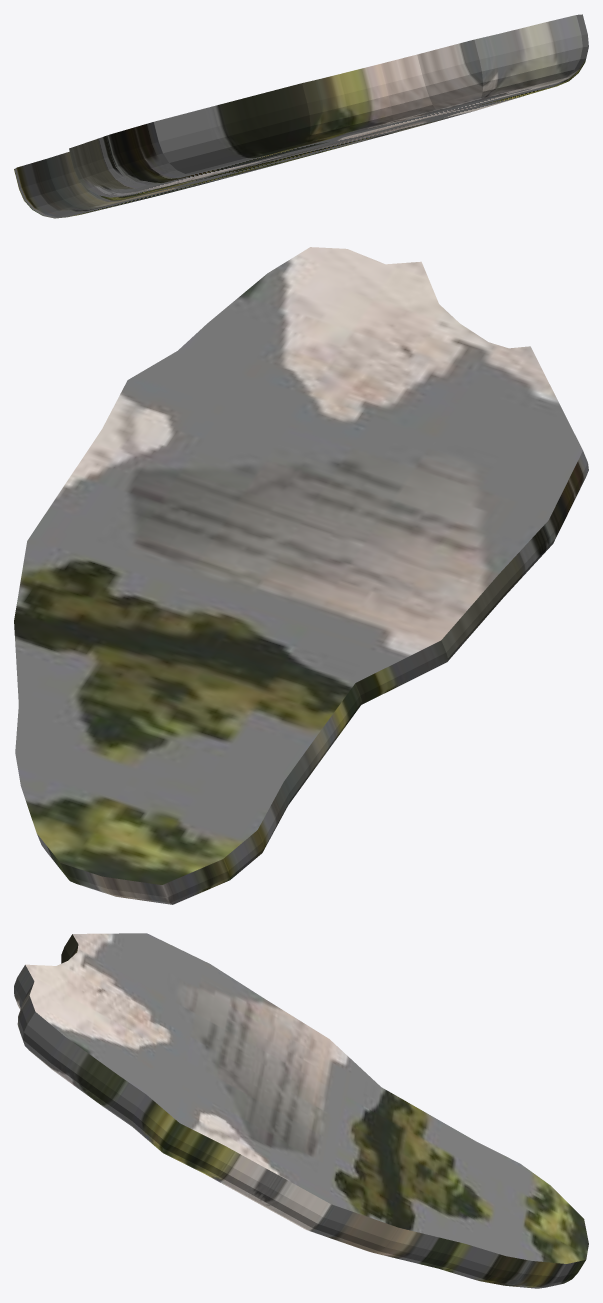
3 renders of one model, top to bottom at view 1: azimuth 30°, elevation 25°; view 2: azimuth 150°, elevation 25°; view 3: azimuth 270°, elevation 25°, orthographic. The views are drawn at different scales.
Bounding box in the file's own units: 0.7331 × 0.6078 × 1.
